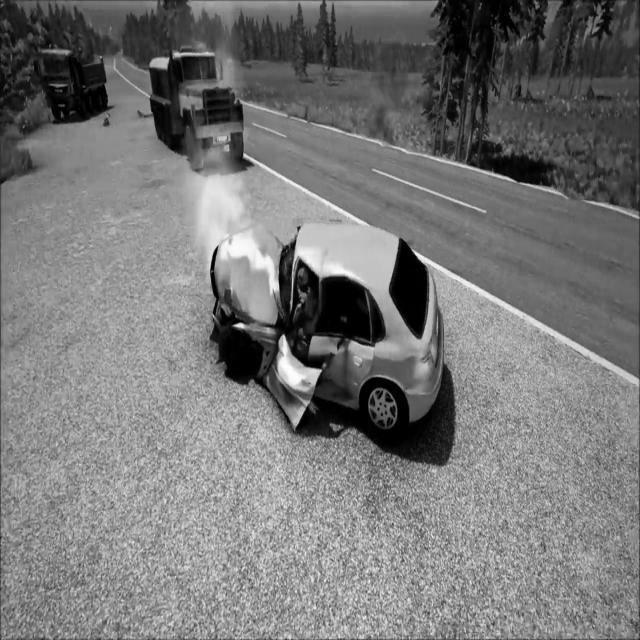accident: (207, 213, 451, 446)
vehicle: (145, 40, 249, 172), (31, 45, 113, 124)
